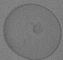small: (31, 23, 44, 34)
